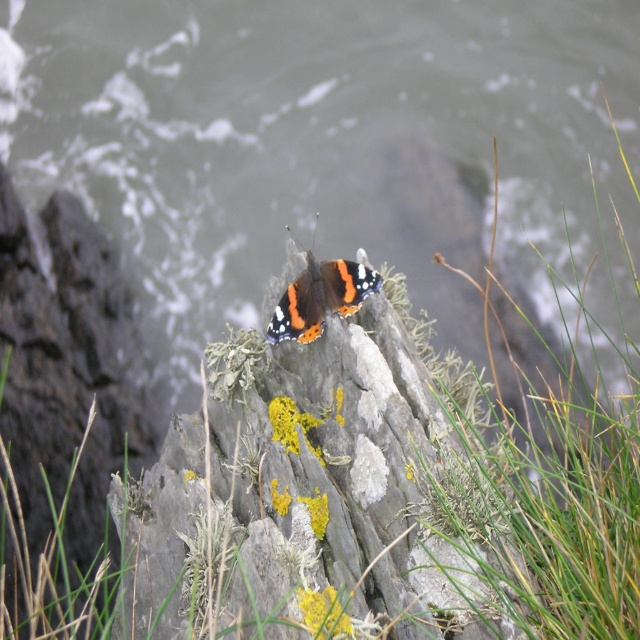Butterfly: (264, 220, 387, 361)
